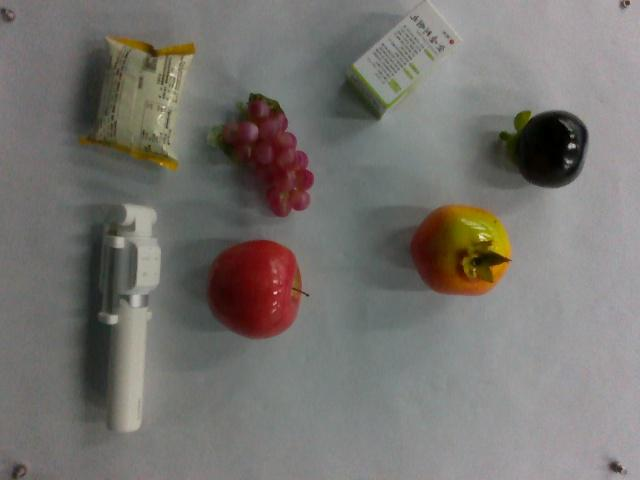apple: (201, 242, 307, 339)
carton: (341, 5, 461, 118)
dessert: (83, 34, 197, 171)
grape: (211, 95, 315, 215)
mangosteen: (498, 108, 587, 191)
pomegranate: (408, 202, 512, 300)
selfiestick: (94, 208, 160, 441)
